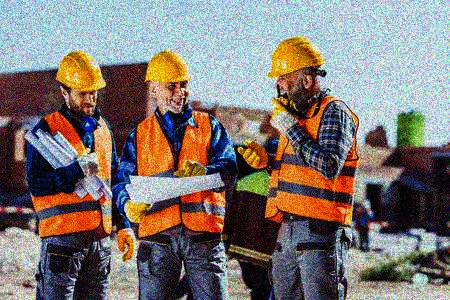helmet: (265, 34, 326, 108), (55, 49, 108, 120), (145, 49, 194, 115)
